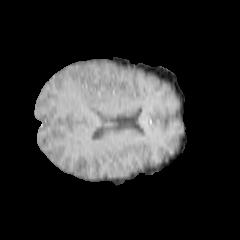glioma: (75, 81, 113, 113)
